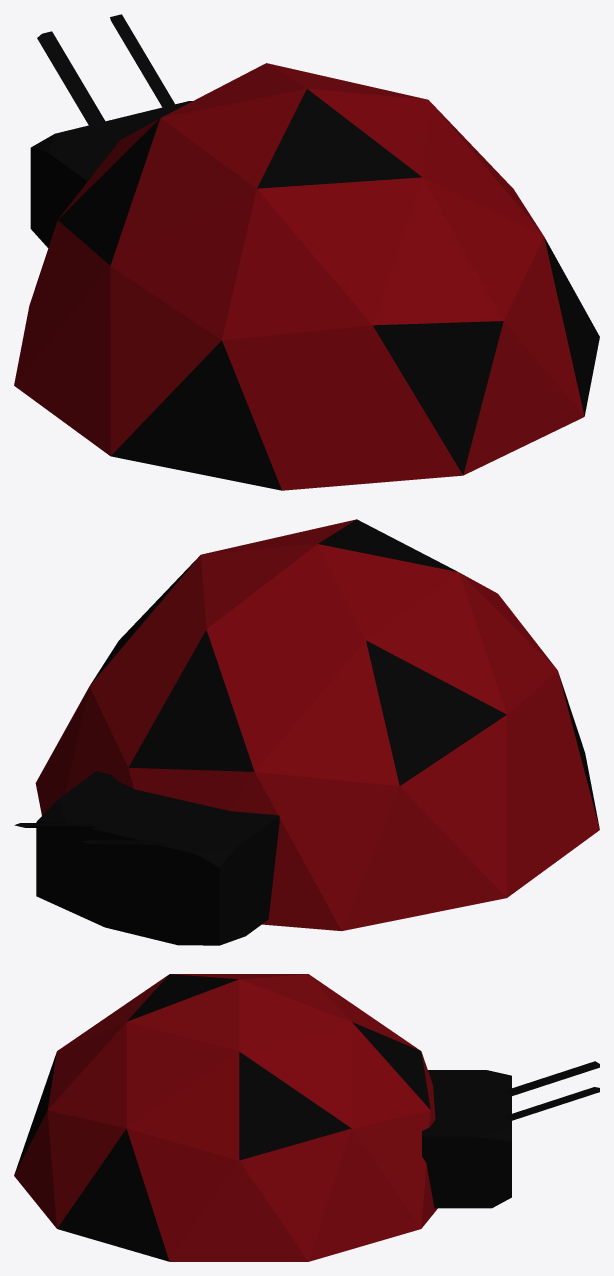
File: ladybug.obj
The picture shows the model from 3 angles, top to bottom: view 1: azimuth 30°, elevation 25°; view 2: azimuth 150°, elevation 25°; view 3: azimuth 270°, elevation 25°; orthographic projection. The views are drawn at different scales.
Parts seen in each view (by area): view 1: Icosphere, Icosphere.001; view 2: Icosphere, Icosphere.001; view 3: Icosphere, Icosphere.001.
Part boxes in pixels (x1,y1,x2,y2): Icosphere: (14, 63, 599, 490); Icosphere.001: (30, 14, 192, 247); Icosphere: (35, 519, 599, 931); Icosphere.001: (14, 771, 279, 945); Icosphere: (14, 974, 437, 1261); Icosphere.001: (422, 1061, 599, 1208).
Bounding box in the file's own units: 1.17 × 0.6212 × 1.68.
